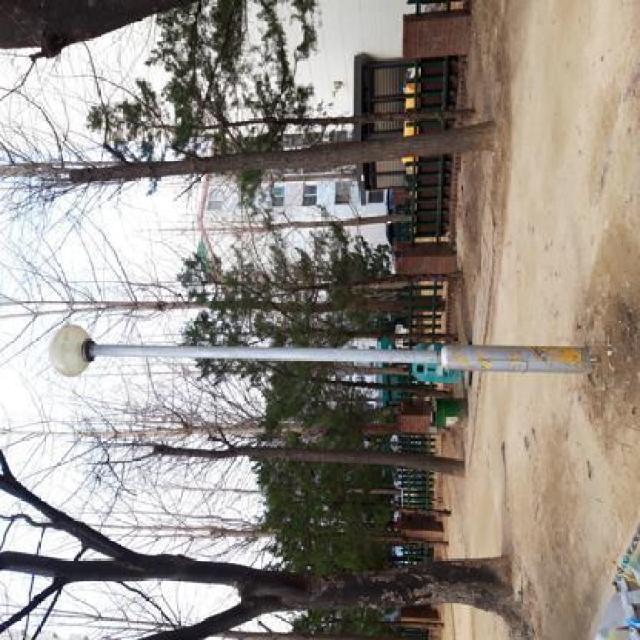pole: (32, 314, 600, 394)
